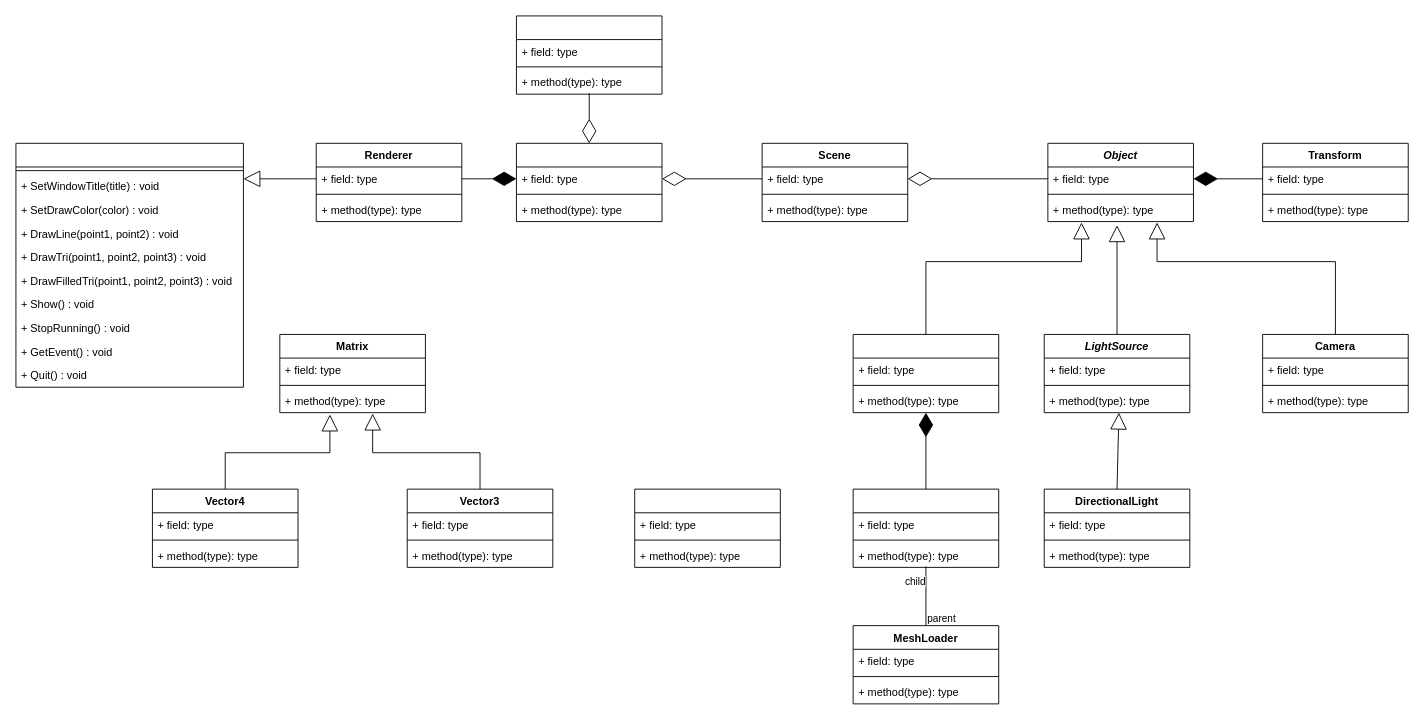
Image size: 1424x723. Some labels were removed from this diagram. Each missing label, with the box of its shape:
Core: (516, 15, 662, 94)
Mesh: (852, 488, 999, 567)
RenderObject: (852, 334, 999, 413)
RenderWindow: (516, 142, 662, 222)
RenderWrapper: (15, 142, 243, 387)
Triangle: (634, 488, 780, 567)
